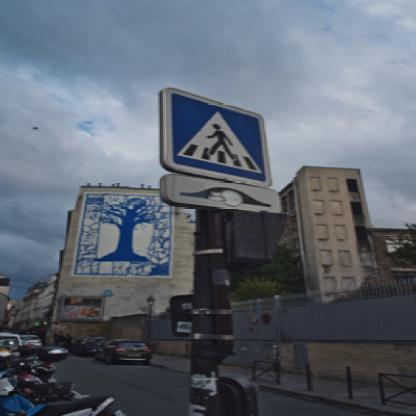crosswalk: (157, 82, 268, 185)
